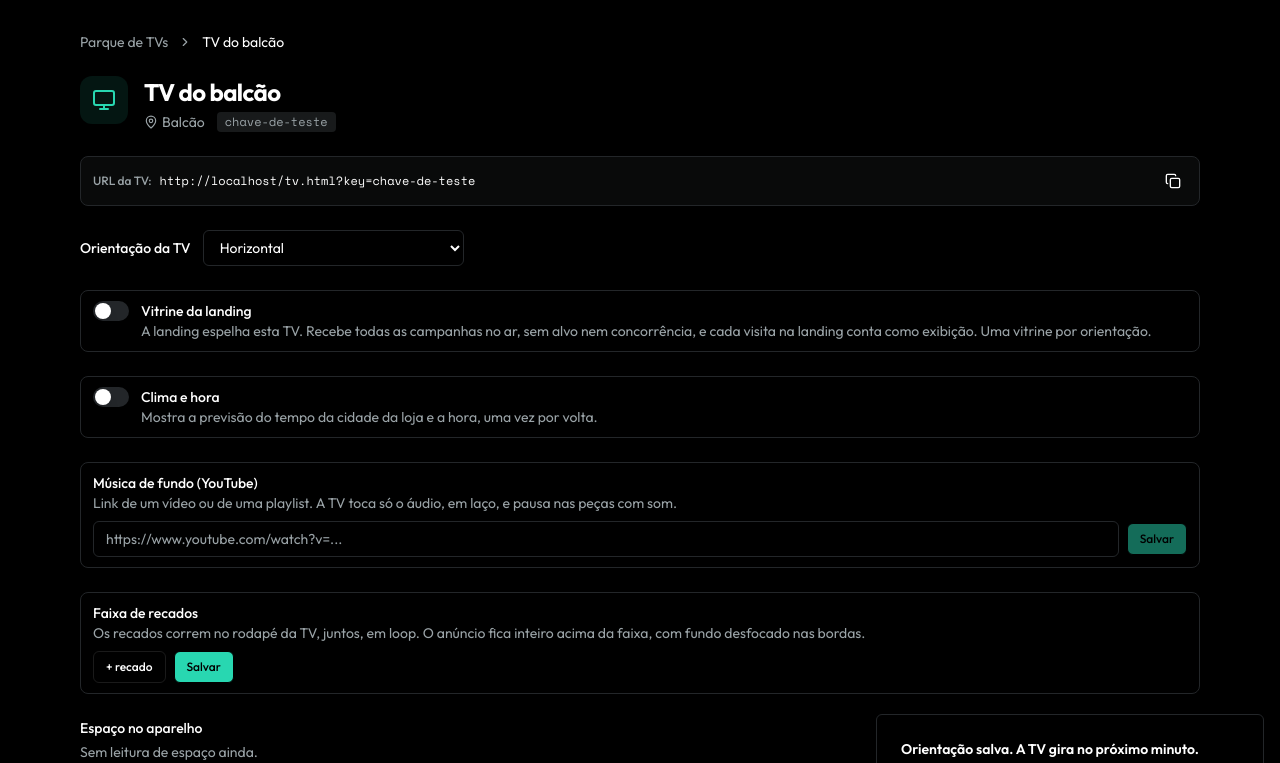
orientação da TV › mostra no toast o conflito de vitrine ao trocar a orientação
Select "Retrato, girada para a direita ↻" in the dropdown labelled "Orientação da TV" at (333, 248), box top-left (203, 230), bottom-right (464, 266)
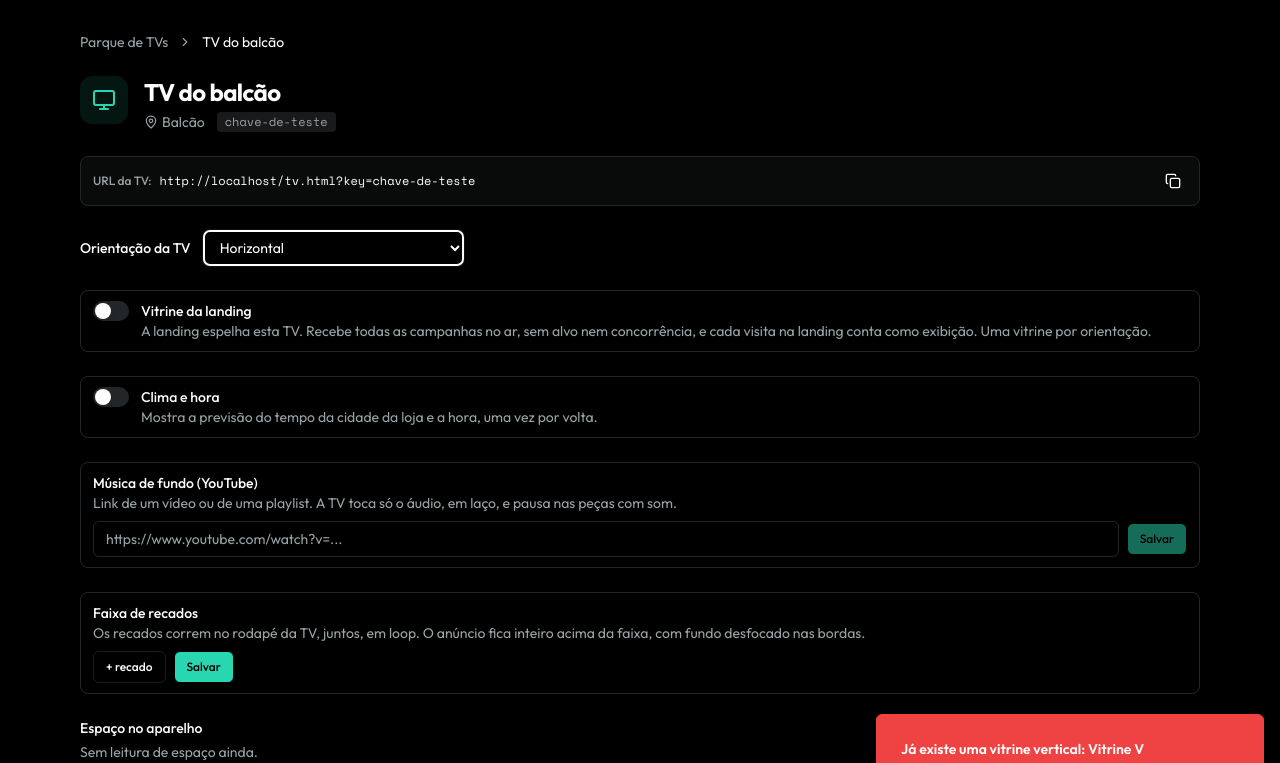
Check: the text "Já existe uma vitrine vertical: Vitrine V" is shown, box top-left (901, 739), bottom-right (1144, 759)
